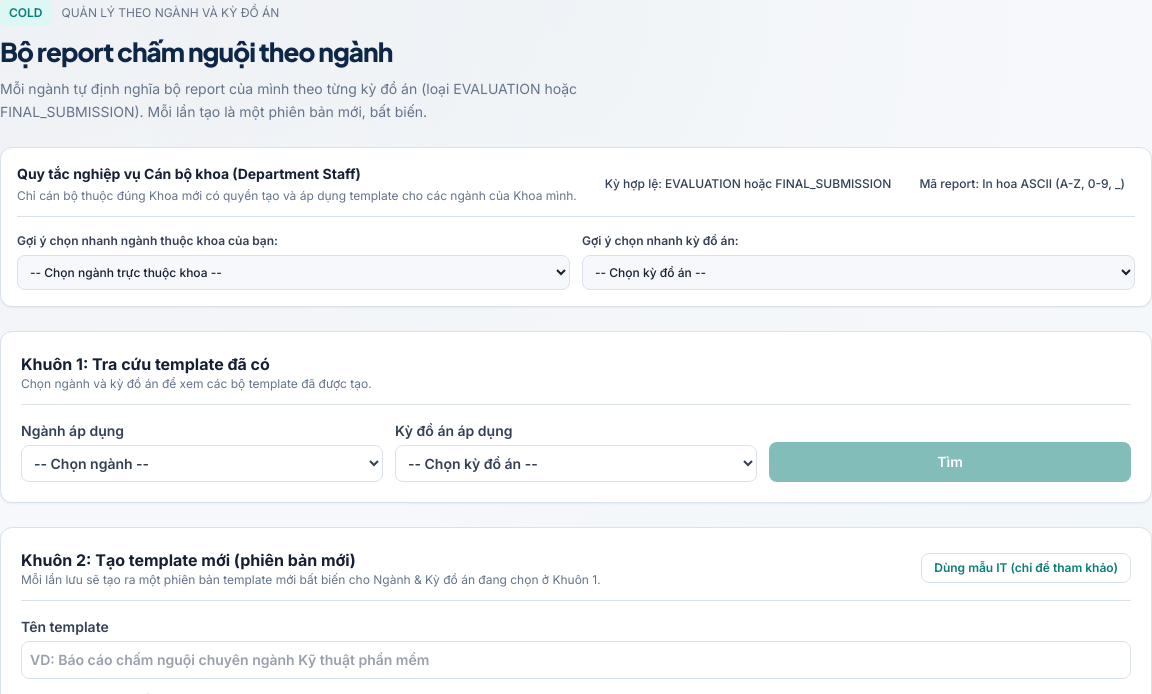
Test case: ColdTemplateManagementPage › creates a template, drops incomplete rows and prepends the immutable result
Select "Marketing (MKT)" in the dropdown labelled "Ngành áp dụng": (202, 464) x1=21 y1=445 x2=383 y2=482
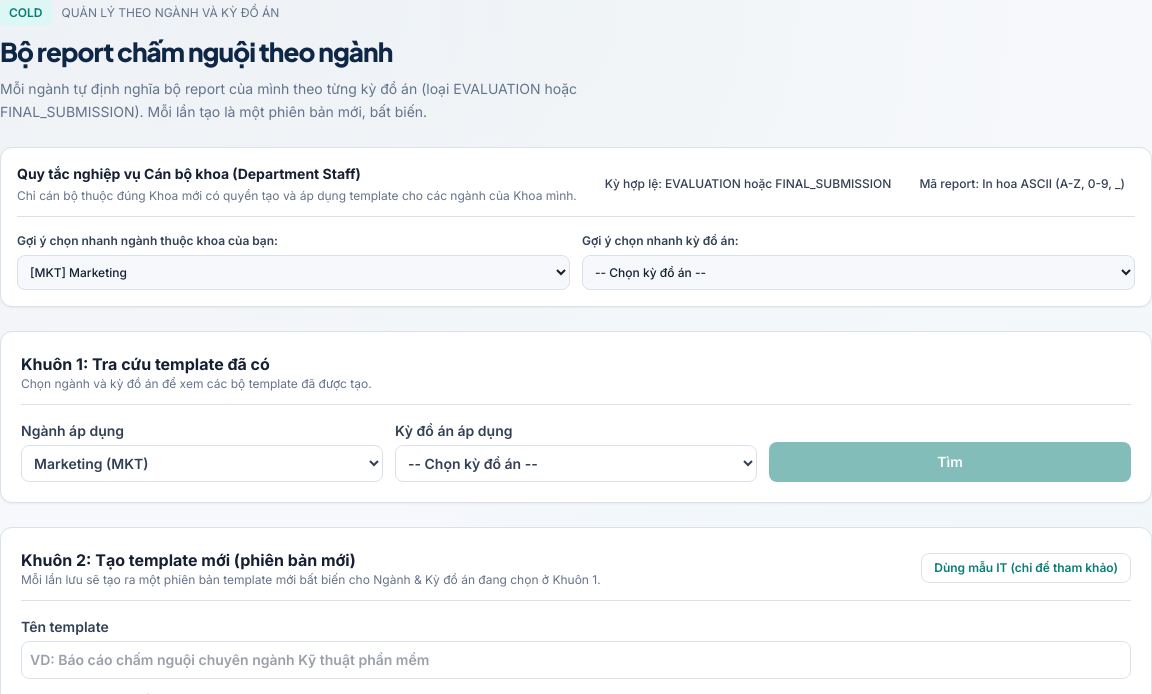
Select "Đánh giá cuối kỳ (EVAL)" in the dropdown labelled "Kỳ đồ án áp dụng": (576, 464) x1=395 y1=445 x2=757 y2=482
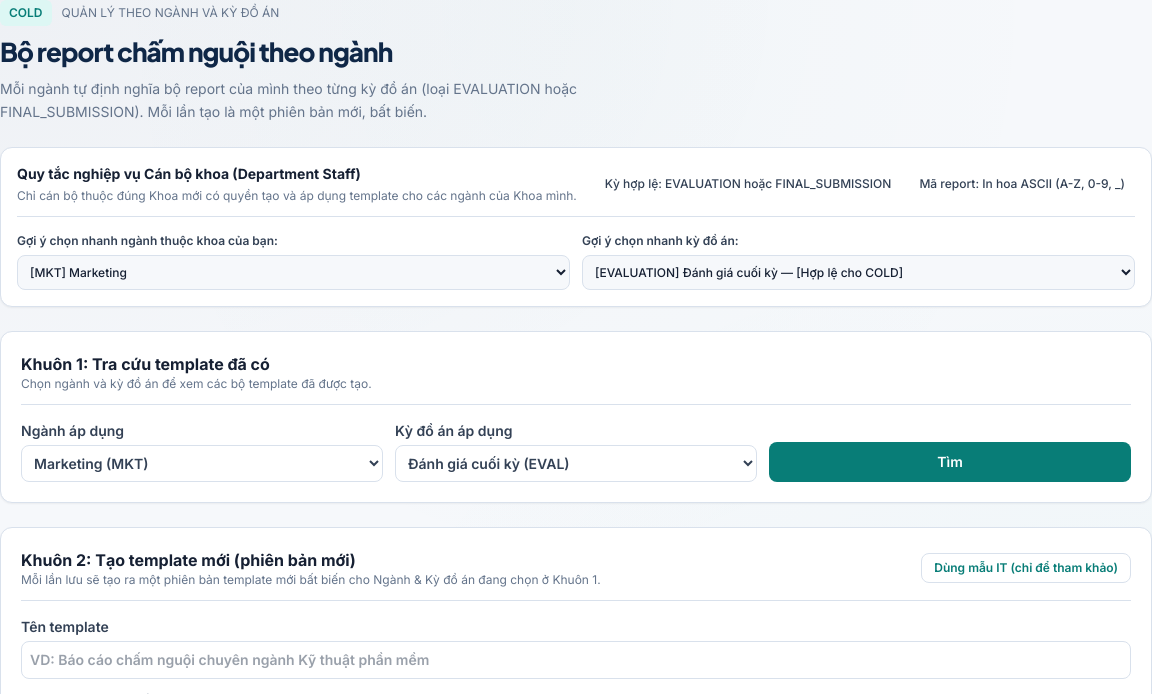
In the field labelled "Tên template": (576, 660) x1=21 y1=641 x2=1131 y2=679, type "Marketing research reports"
(page scrolled)
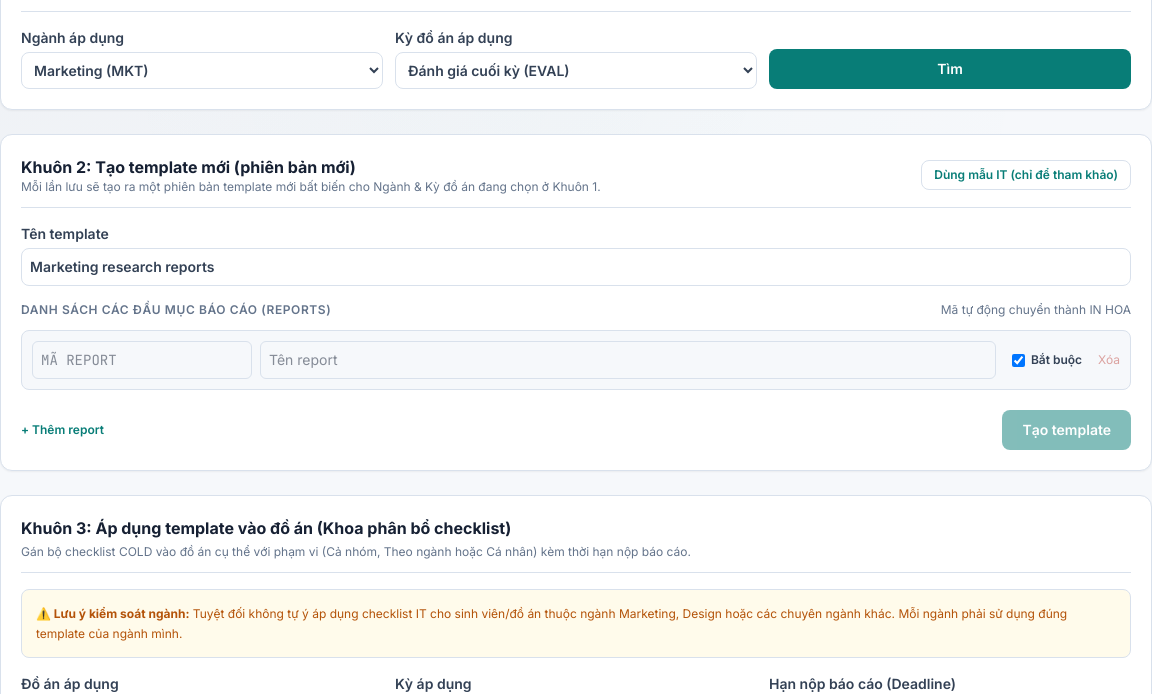
In the field with placeholder "Mã report": (142, 360) x1=32 y1=341 x2=252 y2=379, type "MARKET_RESEARCH"
In the field with placeholder "Tên report": (628, 360) x1=260 y1=341 x2=996 y2=379, type "Market research"
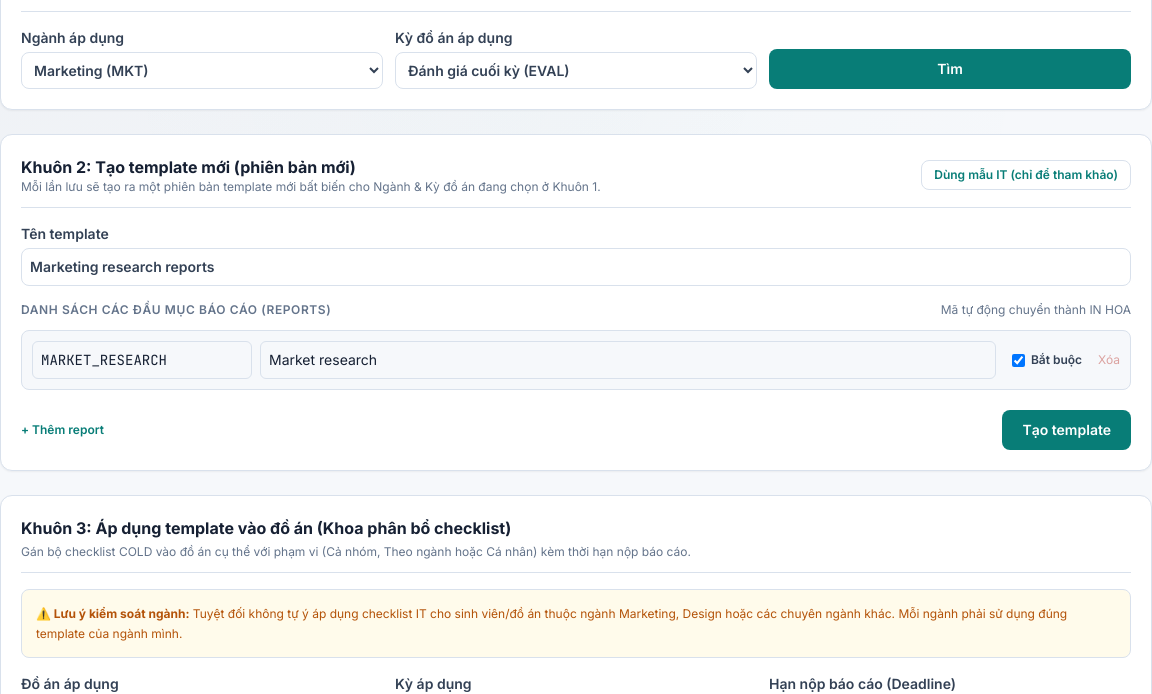
Click the button "+ Thêm report": (62, 430) x1=21 y1=422 x2=104 y2=438
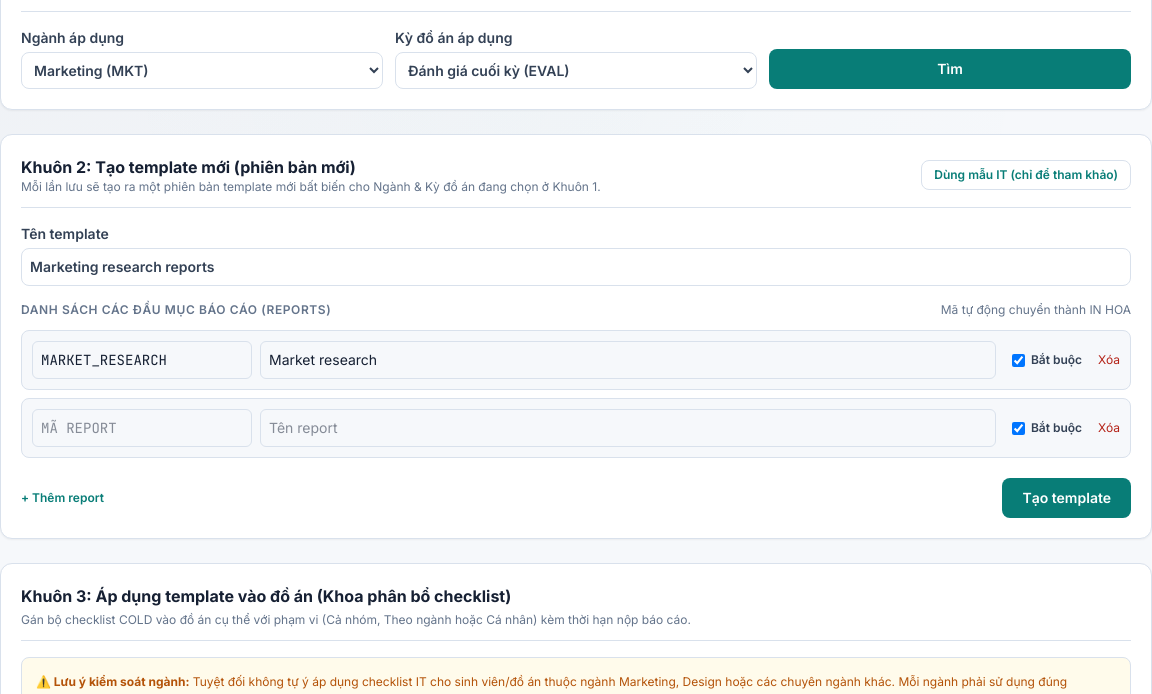
Click the button "Tạo template": (1067, 498) x1=1002 y1=478 x2=1131 y2=518
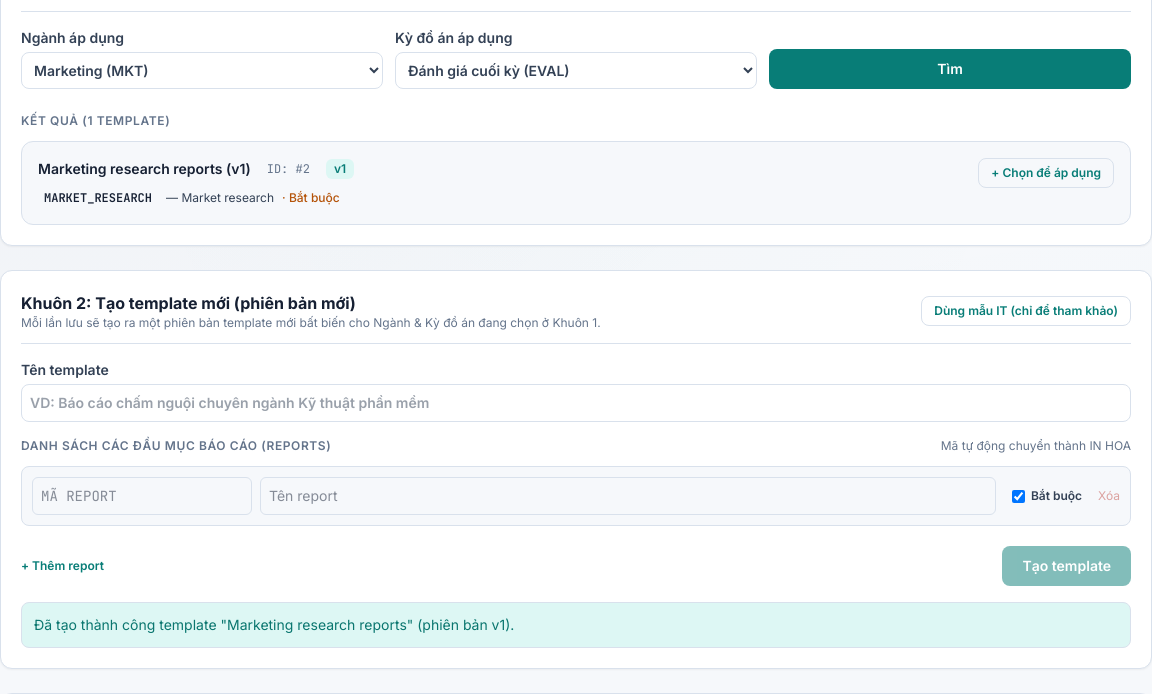
Expected: the text "Marketing research reports (v1)" is shown, x1=38 y1=158 x2=251 y2=180
